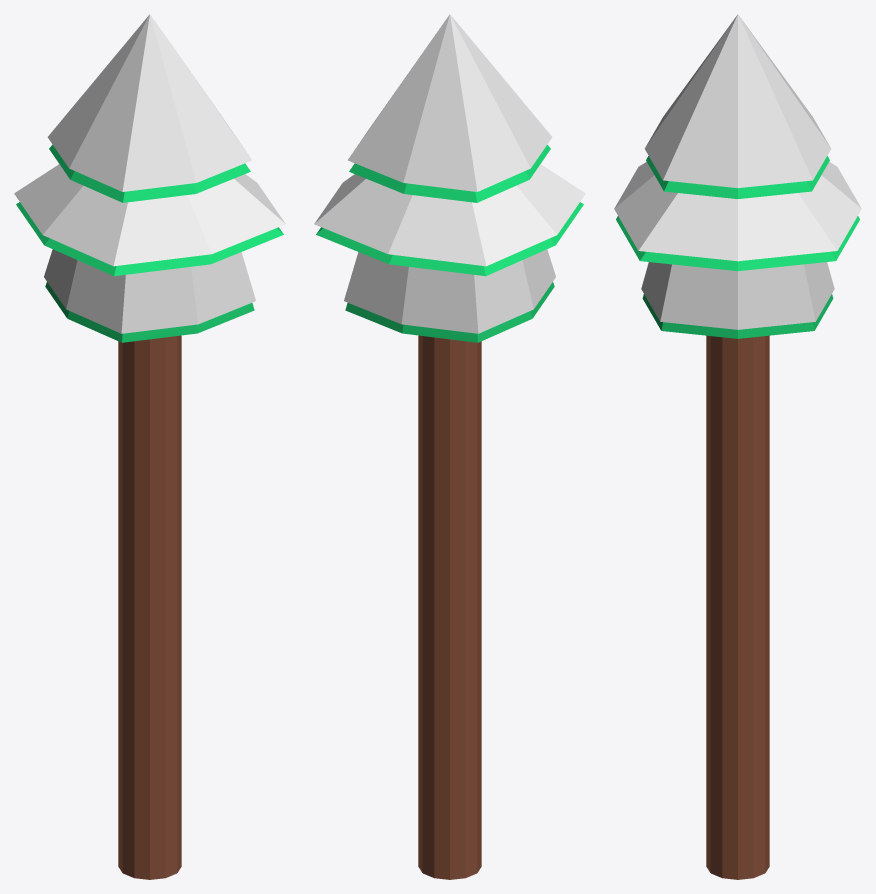
The model's file is Tree_20_winter_gradient_green_pal.fbx.
3 renders of one model, left to right at view 1: azimuth 30°, elevation 25°; view 2: azimuth 150°, elevation 25°; view 3: azimuth 270°, elevation 25°, orthographic.
Visible parts, largest first — view 1: Tree_20_winter_gradient_green_pal; view 2: Tree_20_winter_gradient_green_pal; view 3: Tree_20_winter_gradient_green_pal.
Part boxes in pixels (left/top/right/bottom): Tree_20_winter_gradient_green_pal: left=14, top=14, right=285, bottom=879; Tree_20_winter_gradient_green_pal: left=314, top=14, right=585, bottom=879; Tree_20_winter_gradient_green_pal: left=614, top=14, right=861, bottom=879.
Bounding box in the file's own units: 86.74 × 329 × 86.74.
